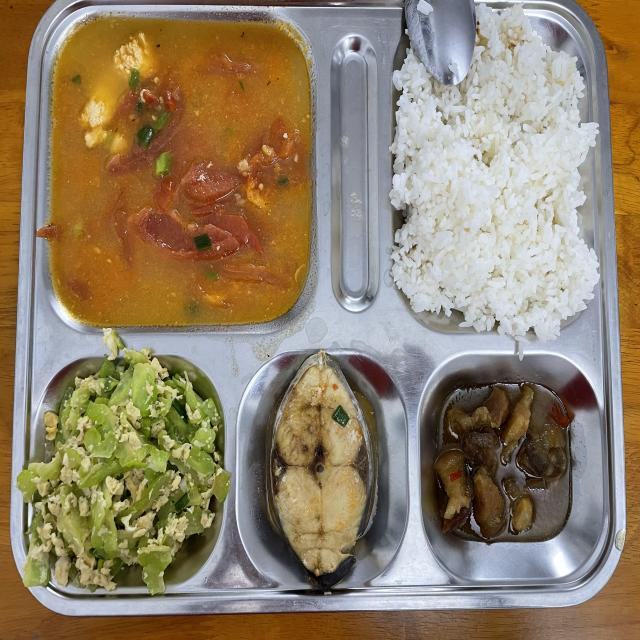ca_kho: (70, 33, 293, 305), (278, 365, 375, 582)
com_trang: (411, 56, 581, 325)
thit_kho: (440, 386, 567, 530)
